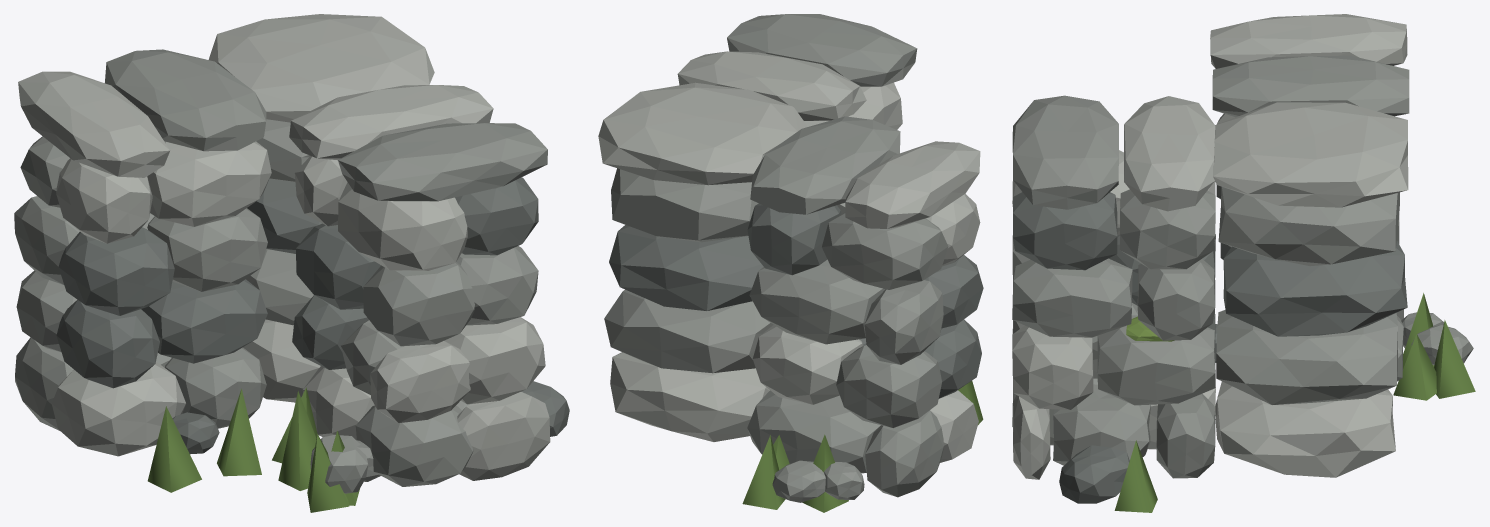
File: stone-wall-2way.glb
3 renders of one model, left to right at view 1: azimuth 30°, elevation 25°; view 2: azimuth 150°, elevation 25°; view 3: azimuth 270°, elevation 25°, orthographic. The views are drawn at different scales.
Visible parts, largest first — view 1: corner_capstone, stone_52, stone_20, stone_19, stone_51, stone_1, stone_46, stone_14, stone_9, stone_42, stone_6, stone_30 (+29 smaller); view 2: corner_capstone, stone_20, stone_62, stone_63, stone_61, stone_52, stone_19, stone_64, stone_51, stone_12, stone_15, stone_4 (+14 smaller); view 3: corner_capstone, stone_63, stone_62, stone_61, stone_52, stone_64, stone_20, stone_51, stone_19, stone_44, stone_37, stone_48 (+15 smaller).
Boxes of the visible parts, left/top/right/bottom form: corner_capstone: left=208, top=14, right=434, bottom=122; stone_52: left=338, top=123, right=547, bottom=201; stone_20: left=105, top=49, right=266, bottom=151; stone_19: left=18, top=71, right=170, bottom=177; stone_51: left=289, top=85, right=493, bottom=160; stone_1: left=51, top=361, right=185, bottom=456; stone_46: left=338, top=182, right=467, bottom=270; stone_14: left=147, top=141, right=271, bottom=226; stone_9: left=58, top=227, right=174, bottom=315; stone_42: left=363, top=262, right=474, bottom=346; stone_6: left=141, top=279, right=267, bottom=363; stone_30: left=355, top=405, right=473, bottom=486; corner_capstone: left=598, top=82, right=807, bottom=185; stone_20: left=750, top=116, right=900, bottom=214; stone_62: left=604, top=289, right=773, bottom=373; stone_63: left=609, top=225, right=763, bottom=310; stone_61: left=610, top=352, right=769, bottom=441; stone_52: left=727, top=14, right=917, bottom=86; stone_19: left=845, top=141, right=980, bottom=228; stone_64: left=611, top=168, right=758, bottom=242; stone_51: left=677, top=51, right=866, bottom=120; stone_12: left=749, top=259, right=885, bottom=344; stone_15: left=822, top=212, right=948, bottom=289; stone_4: left=747, top=390, right=880, bottom=473; corner_capstone: left=1213, top=102, right=1408, bottom=207; stone_63: left=1223, top=241, right=1407, bottom=336; stone_62: left=1216, top=310, right=1397, bottom=404; stone_61: left=1215, top=381, right=1395, bottom=477; stone_52: left=1012, top=95, right=1118, bottom=209; stone_64: left=1218, top=186, right=1399, bottom=266; stone_20: left=1212, top=55, right=1409, bottom=117; stone_51: left=1124, top=96, right=1215, bottom=211; stone_19: left=1210, top=14, right=1407, bottom=68; stone_44: left=1012, top=258, right=1132, bottom=337; stone_37: left=1097, top=315, right=1215, bottom=405; stone_48: left=1013, top=192, right=1117, bottom=270.
Bounding box in the file's own units: 0.7486 × 0.6065 × 0.7787.
